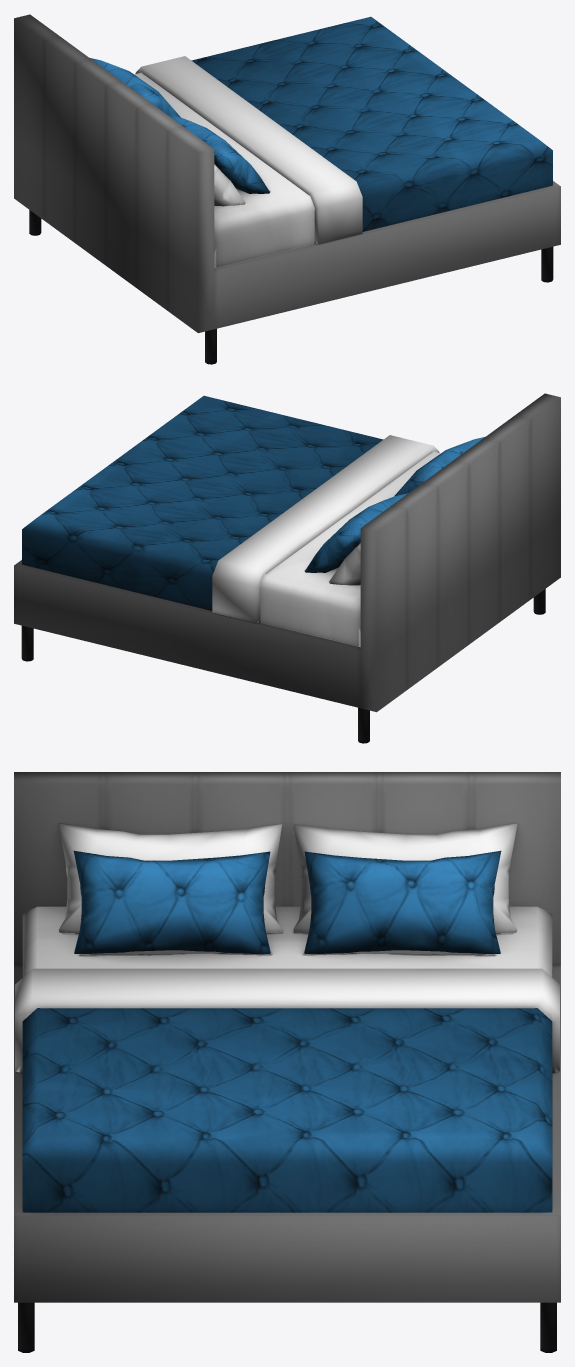
The model's file is cama_azul.glb.
The picture shows the model from 3 angles, top to bottom: view 1: azimuth 30°, elevation 25°; view 2: azimuth 150°, elevation 25°; view 3: azimuth 270°, elevation 25°; orthographic projection. The views are drawn at different scales.
Visible parts, largest first — view 1: Base_Low.002; view 2: Base_Low.002; view 3: Base_Low.002.
Part boxes in pixels (bbox=[...]): Base_Low.002: bbox=[14, 14, 560, 364]; Base_Low.002: bbox=[14, 393, 560, 743]; Base_Low.002: bbox=[14, 772, 560, 1352].
Bounding box in the file's own units: 1.69 × 0.9617 × 1.48.
Materials: 1 (1 with a texture image).
